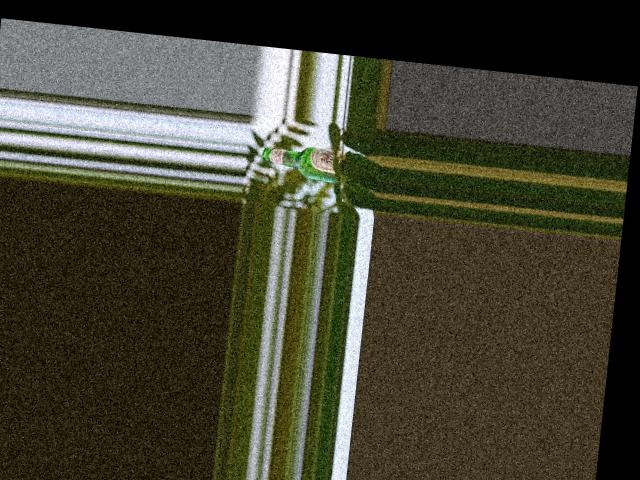beer: (260, 141, 348, 183)
